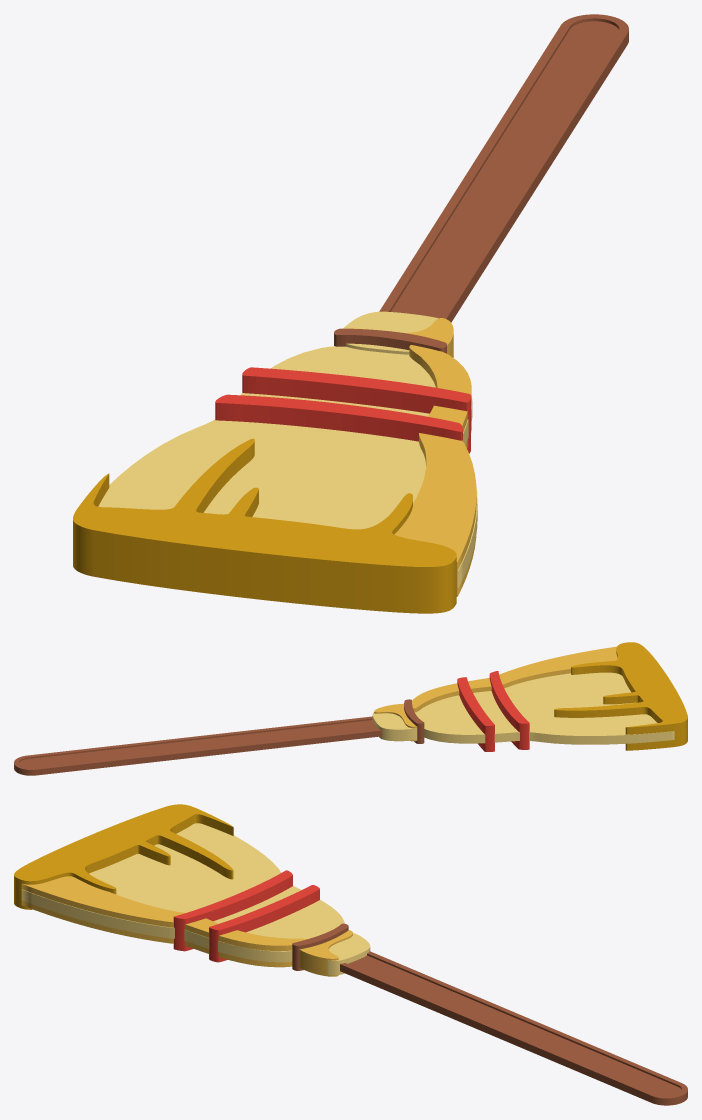
Rendered from emoji_u1f9f9.glb.
The picture shows the model from 3 angles, top to bottom: view 1: azimuth 30°, elevation 25°; view 2: azimuth 150°, elevation 25°; view 3: azimuth 270°, elevation 25°; orthographic projection. The views are drawn at different scales.
Visible parts, largest first — view 1: emoji_u1f9f9; view 2: emoji_u1f9f9; view 3: emoji_u1f9f9.
Boxes of the visible parts, x1,y1,x2,y2 form: emoji_u1f9f9: (73, 14, 628, 613); emoji_u1f9f9: (14, 642, 687, 775); emoji_u1f9f9: (14, 804, 687, 1105).
Bounding box in the file's own units: 0.0339 × 0.0018 × 0.0341.
